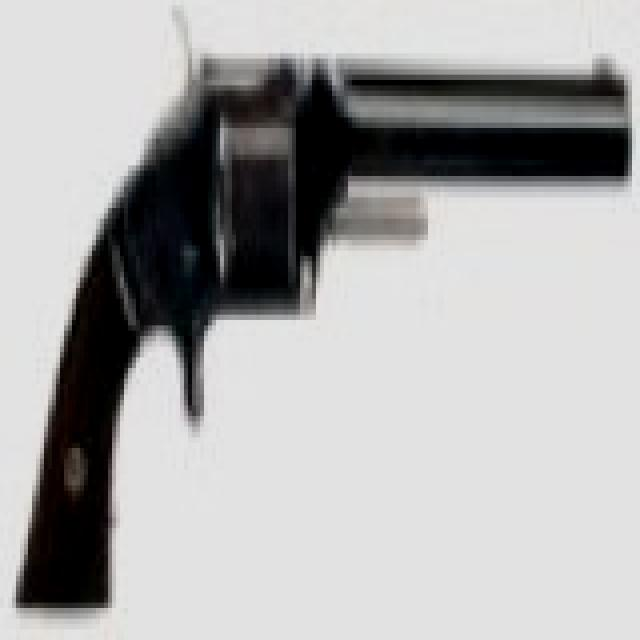pistol: (12, 16, 640, 608)
